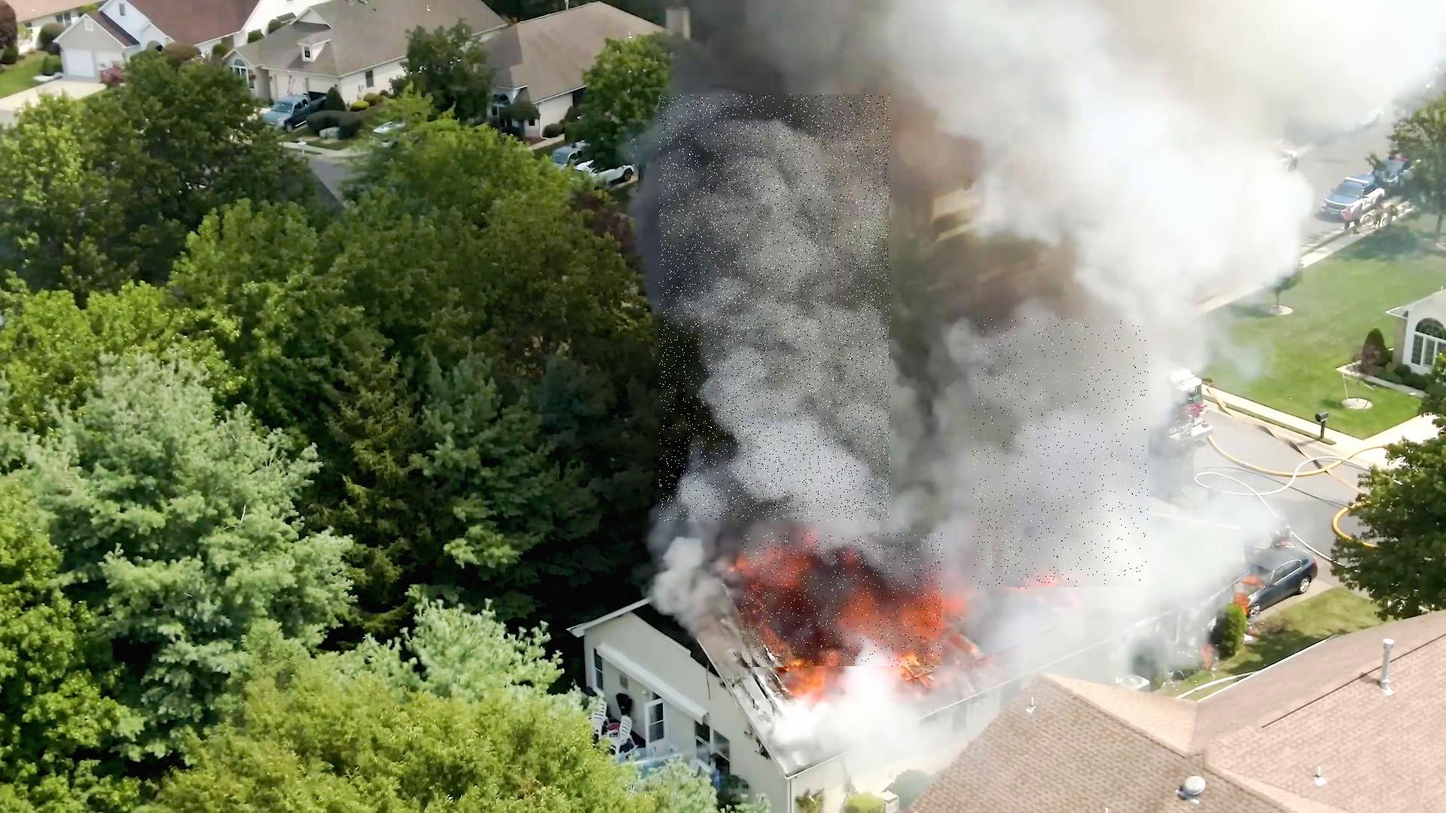fire: (742, 533, 943, 667)
smoke: (659, 94, 891, 521), (972, 318, 1149, 589)
